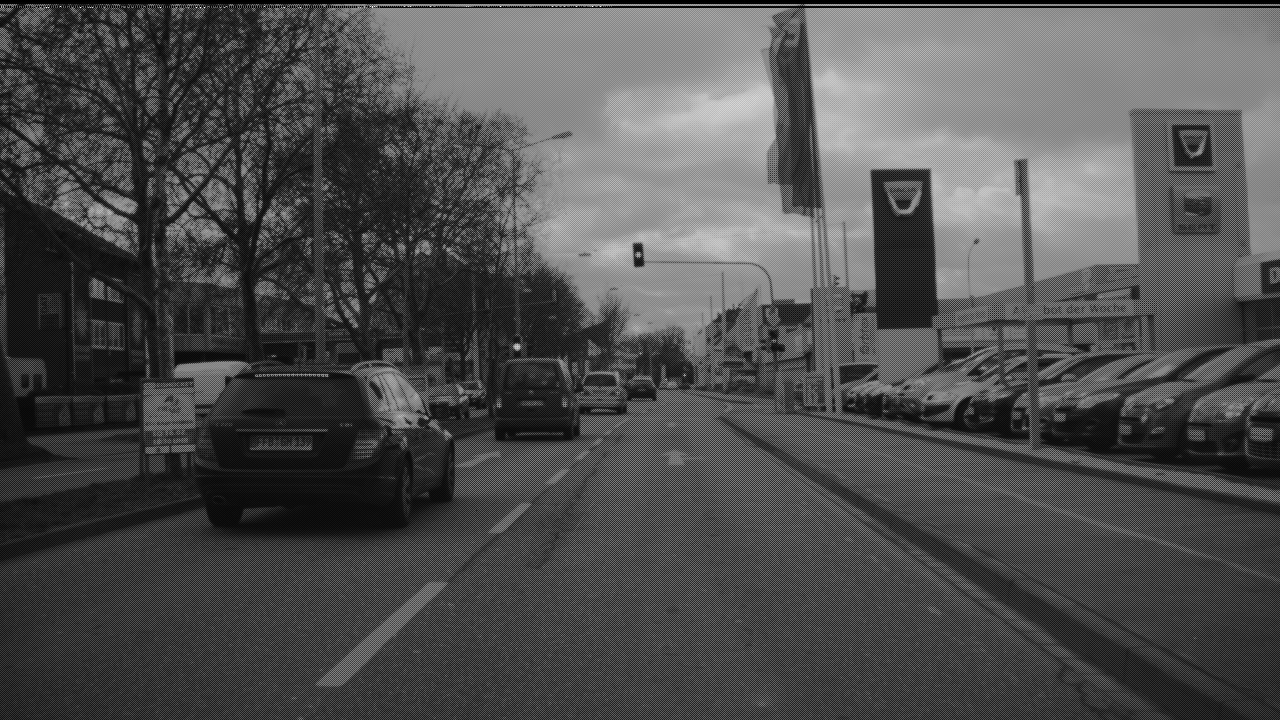pole: (1016, 151, 1043, 442), (314, 4, 327, 353), (509, 144, 521, 349), (721, 264, 729, 386), (769, 274, 777, 361), (709, 287, 715, 380)
